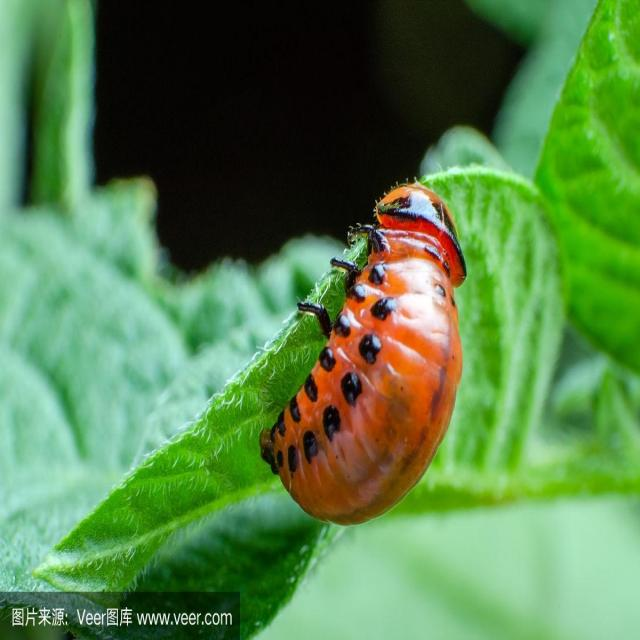ShuCaiHuaBanChong-Larva-: (268, 168, 464, 532)
